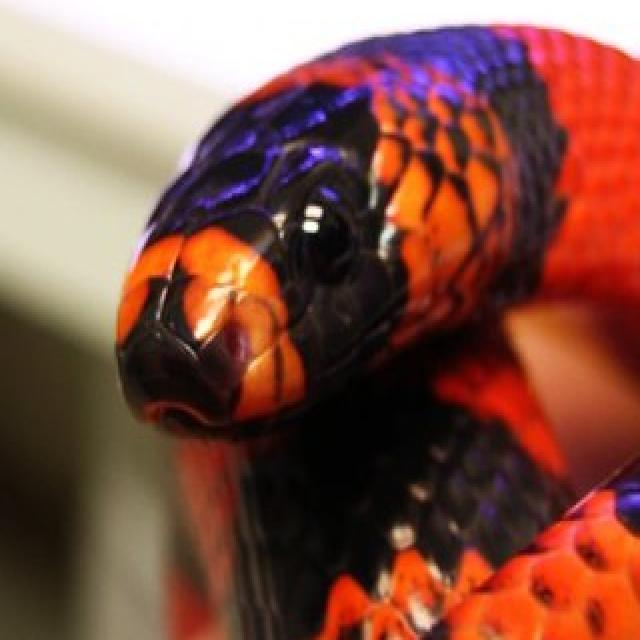Snake: (112, 18, 640, 640)
